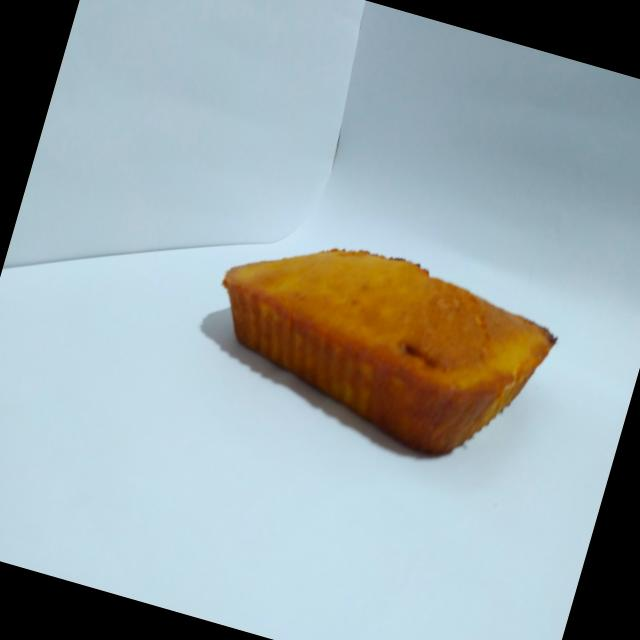Sopa: (187, 200, 575, 486)
